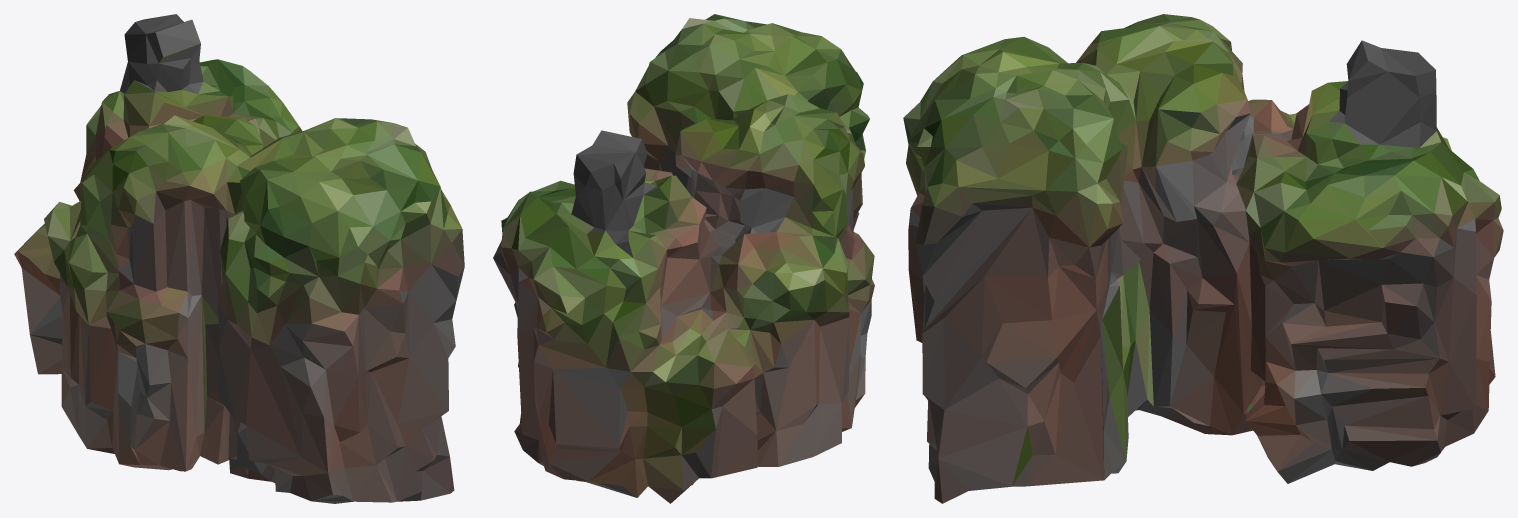
File: Spire_D-Foliage.fbx
The picture shows the model from 3 angles, left to right: view 1: azimuth 30°, elevation 25°; view 2: azimuth 150°, elevation 25°; view 3: azimuth 270°, elevation 25°; orthographic projection. The views are drawn at different scales.
Visible parts, largest first — view 1: Spire_D-Foliage; view 2: Spire_D-Foliage; view 3: Spire_D-Foliage.
Part boxes in pixels (x1,y1,x2,y2): Spire_D-Foliage: (14, 14, 464, 503); Spire_D-Foliage: (493, 14, 874, 503); Spire_D-Foliage: (903, 14, 1503, 503).
Size of the model in its own units: 3599 by 4398 by 5762.
